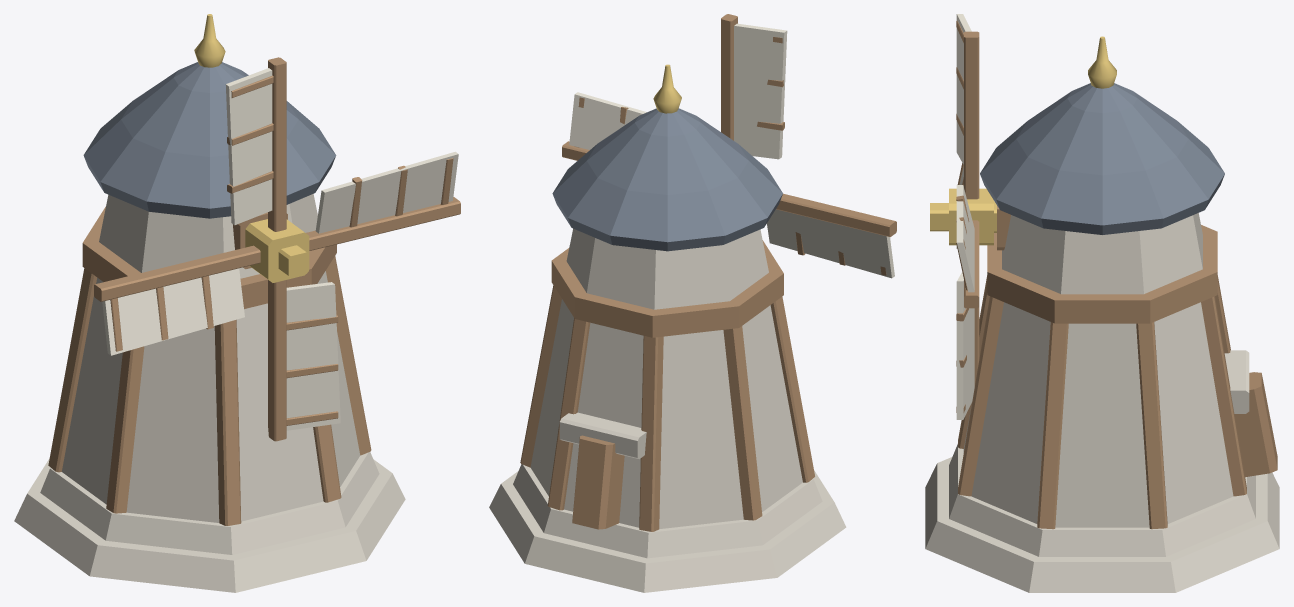
Rendered from prop_windmill.glb.
3 renders of one model, left to right at view 1: azimuth 30°, elevation 25°; view 2: azimuth 150°, elevation 25°; view 3: azimuth 270°, elevation 25°, orthographic. The views are drawn at different scales.
Visible parts, largest first — view 1: Body, WindmillRotor; view 2: Body, WindmillRotor; view 3: Body, WindmillRotor.
Boxes of the visible parts, x1=… form: Body: x1=14, y1=14, x2=405, y2=592; WindmillRotor: x1=94, y1=57, x2=460, y2=441; Body: x1=489, y1=64, x2=846, y2=592; WindmillRotor: x1=562, y1=14, x2=896, y2=278; Body: x1=925, y1=36, x2=1279, y2=592; WindmillRotor: x1=930, y1=14, x2=993, y2=419.
Bounding box in the file's own units: 0.63 × 0.835 × 0.5543.
